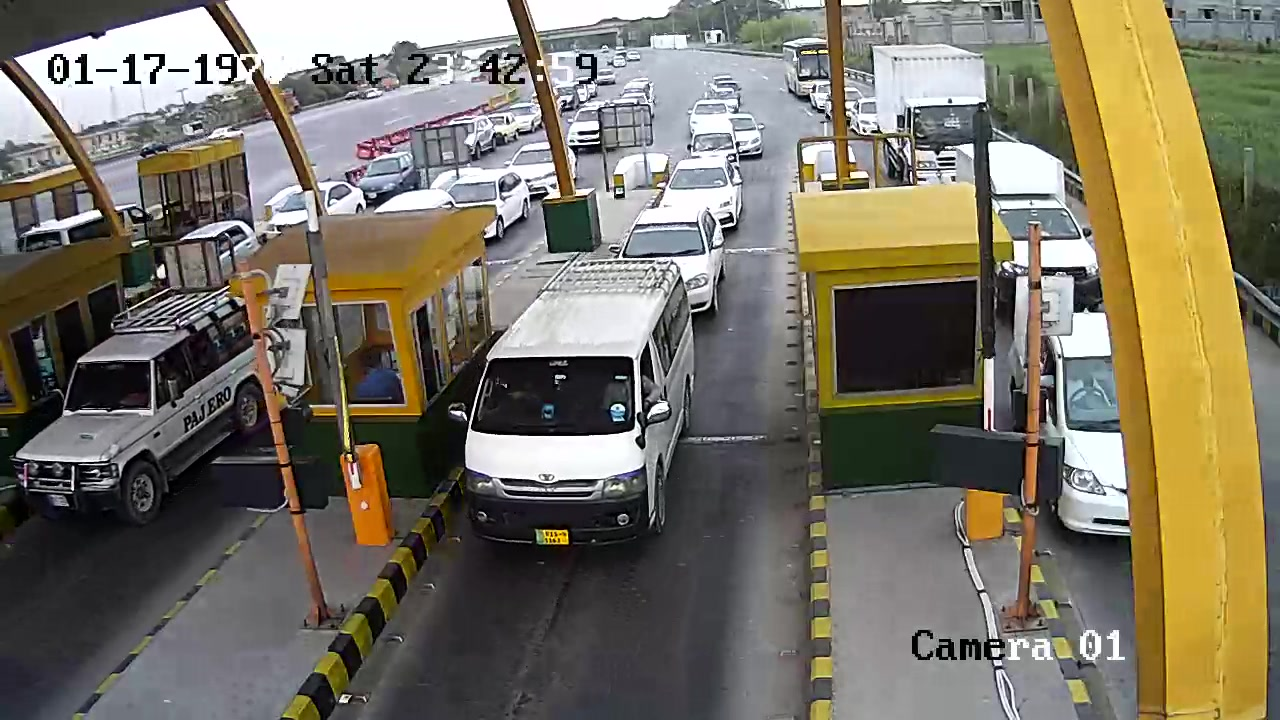F2: (461, 245, 709, 562)
